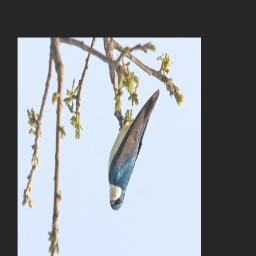Swallow: (105, 87, 162, 216)
